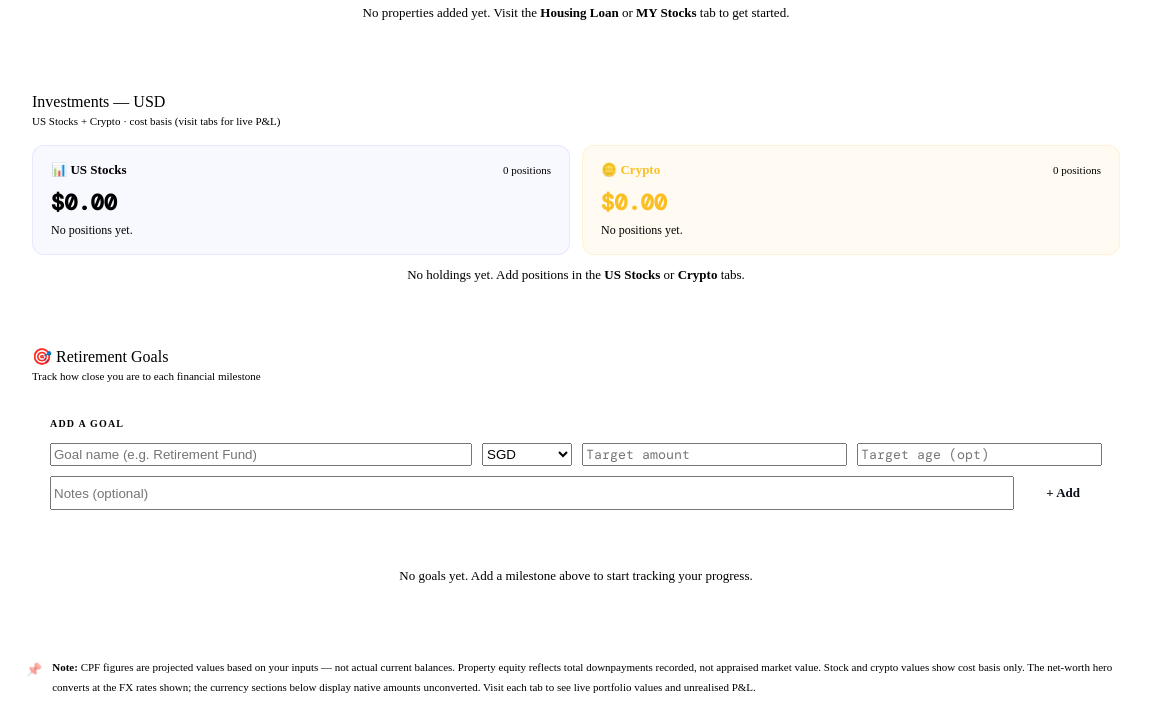
Test: SummaryTab › marks an achieved goal as reached
(page scrolled)
Type "First 100k" into the field with placeholder "Goal name (e.g. Retirement Fund)" at coordinates (261, 455), box [50,443,472,466]
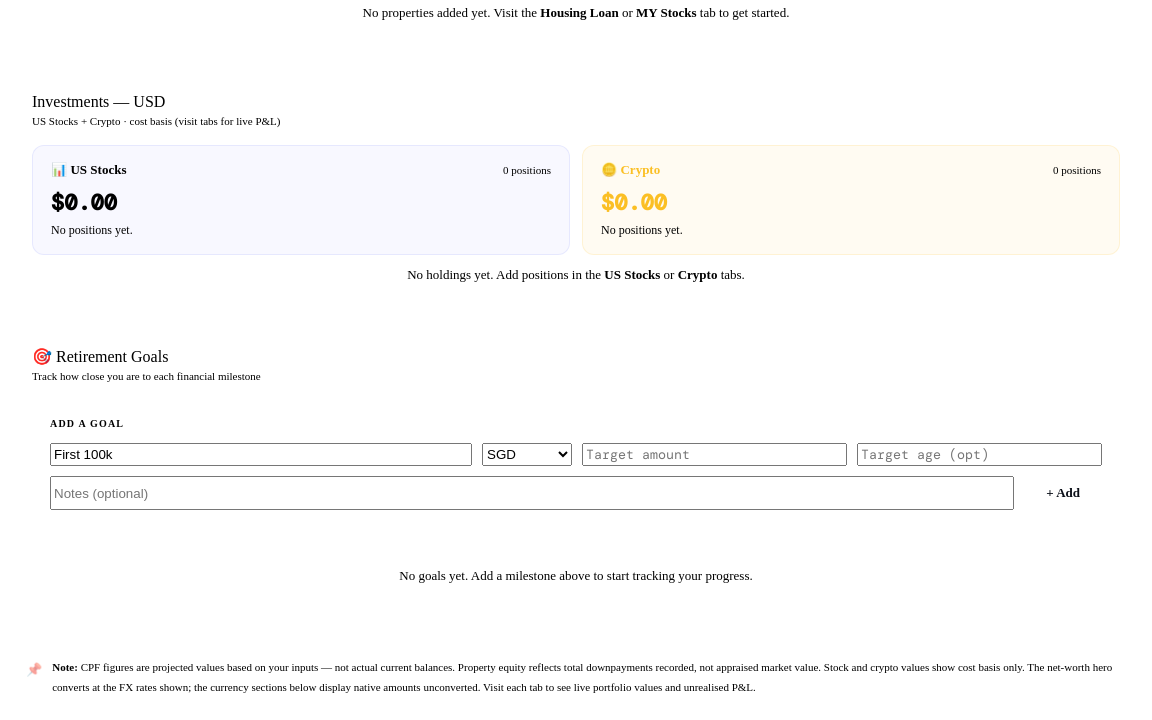
Type "100000" into the field with placeholder "Target amount" at coordinates (714, 455), box [582,443,847,466]
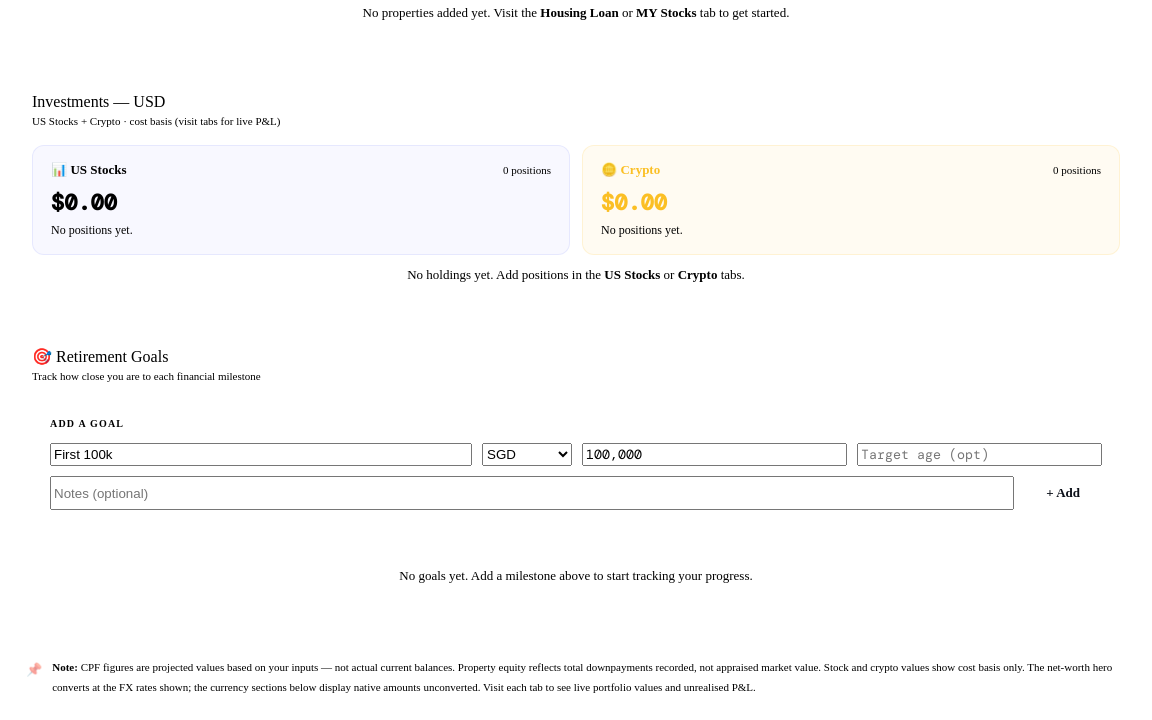
Click the button "+ Add" at coordinates (1063, 493), box [1024,476,1102,510]
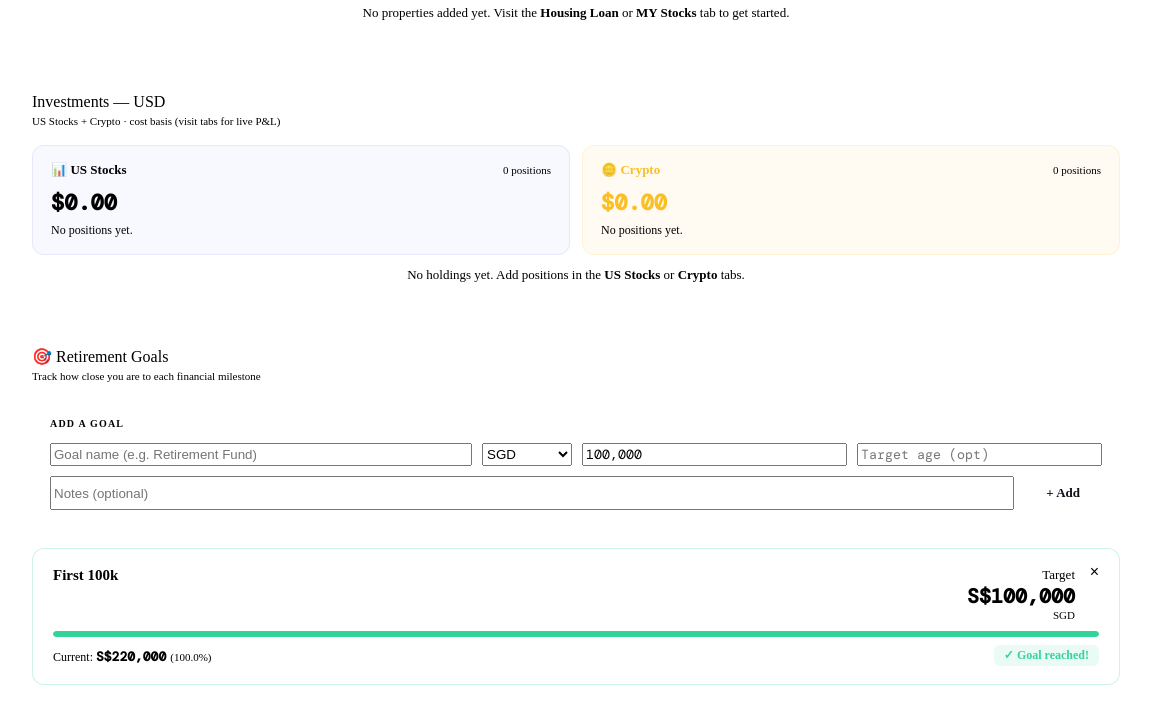
Expected: the text "✓ Goal reached!" is shown, [994,645,1099,666]
